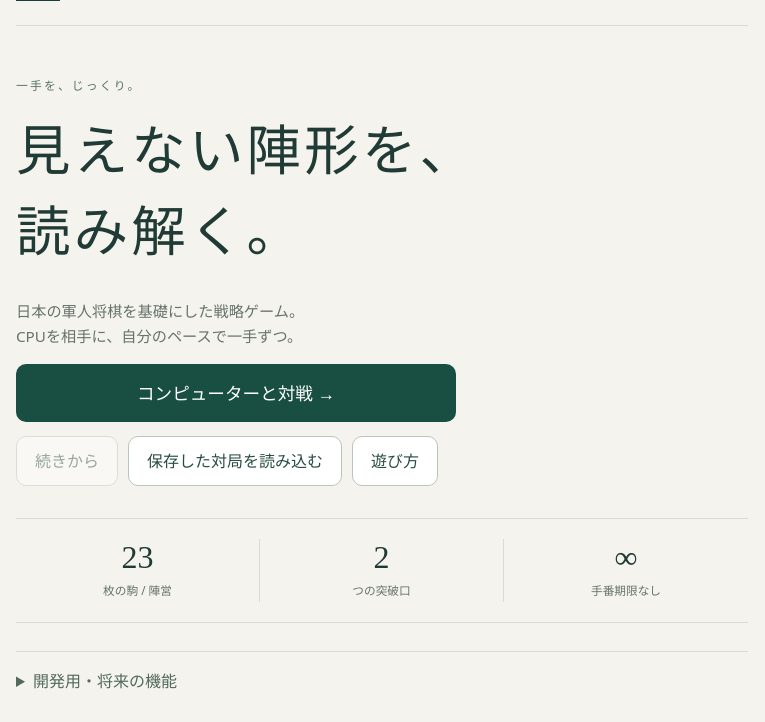
Test: title offers disabled resume, import, and instructions when no match is saved
The width and height of the screenshot is (765, 722).
(page scrolled)
Expected: the button "続きから" is disabled, [16,436,118,486]
Expected: the button "保存した対局を読み込む" is enabled, [128,436,342,486]
What coordinates should you click on to do the following:
click the button "遊び方"
I would click on:
 (395, 461)
Its box is [352,436,438,486].
(page scrolled)
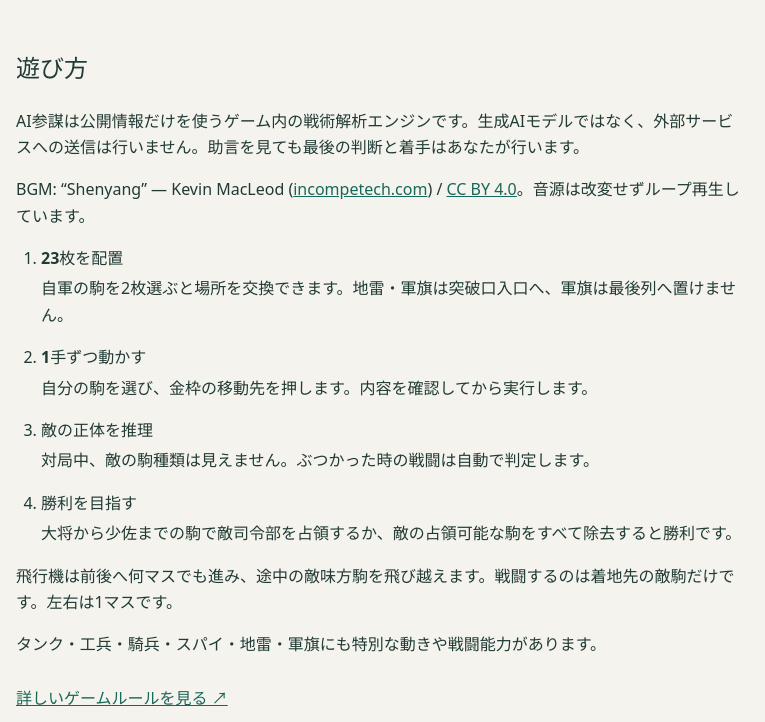
Now the heading "遊び方" is shown, box [16,51,88,84]
